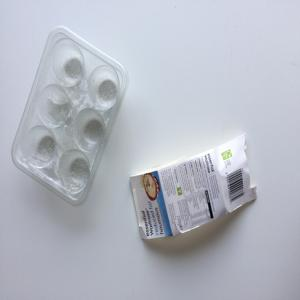cardboard: (116, 133, 280, 240)
plastic: (15, 24, 125, 208)
